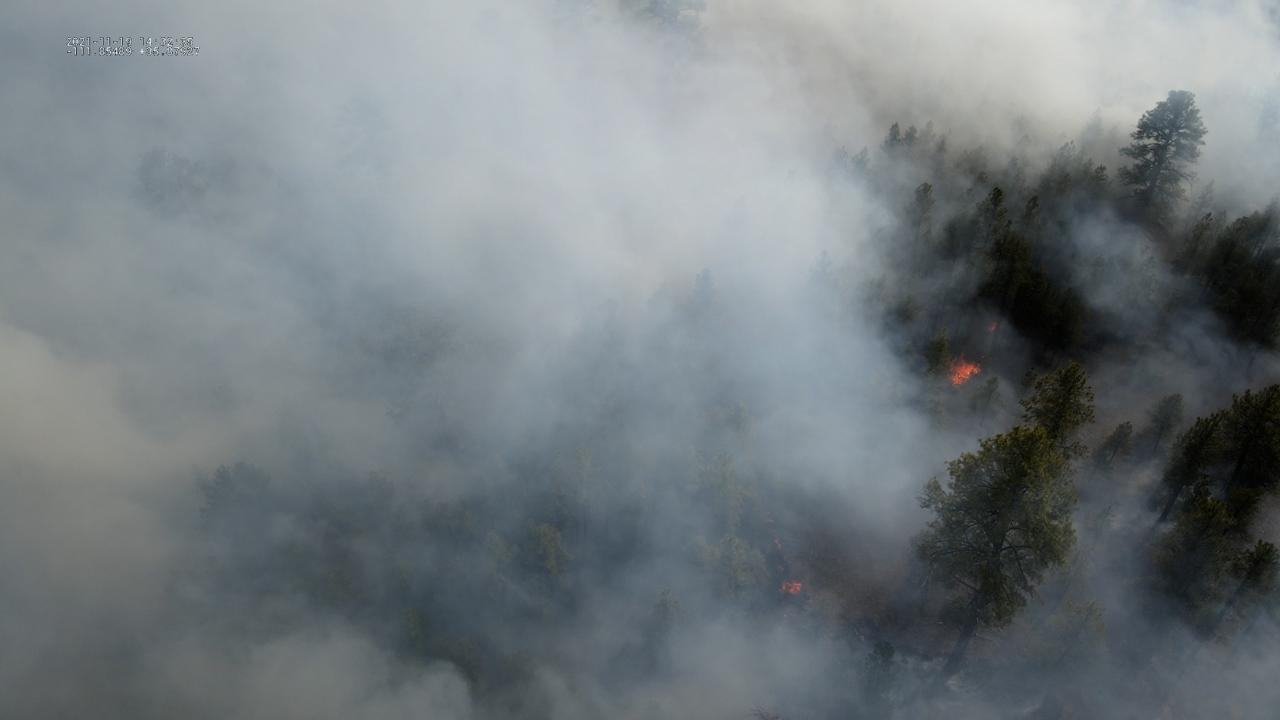fire: (944, 350, 983, 389), (777, 578, 804, 597), (984, 321, 1000, 333), (773, 536, 784, 550)
smoke: (0, 0, 1280, 720)
